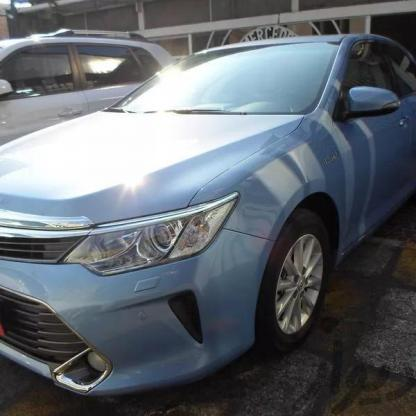Car: (0, 46, 416, 402), (0, 7, 177, 151)
